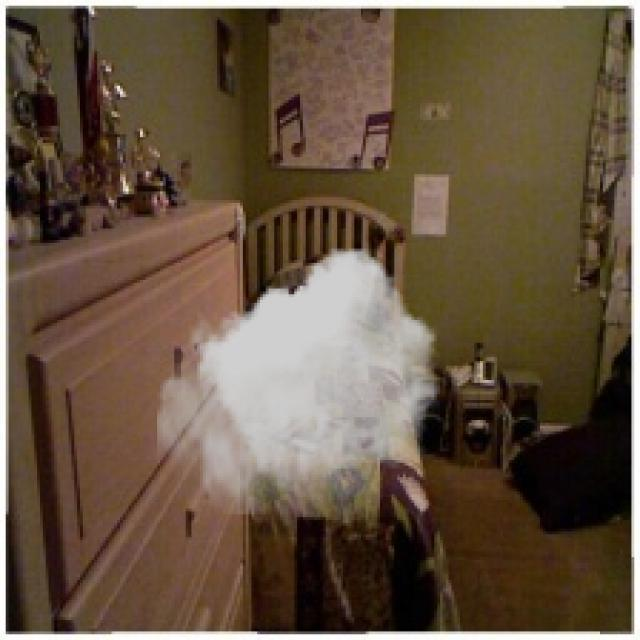Smoke: (157, 248, 440, 514)
